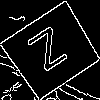Z: (26, 25, 76, 81)
